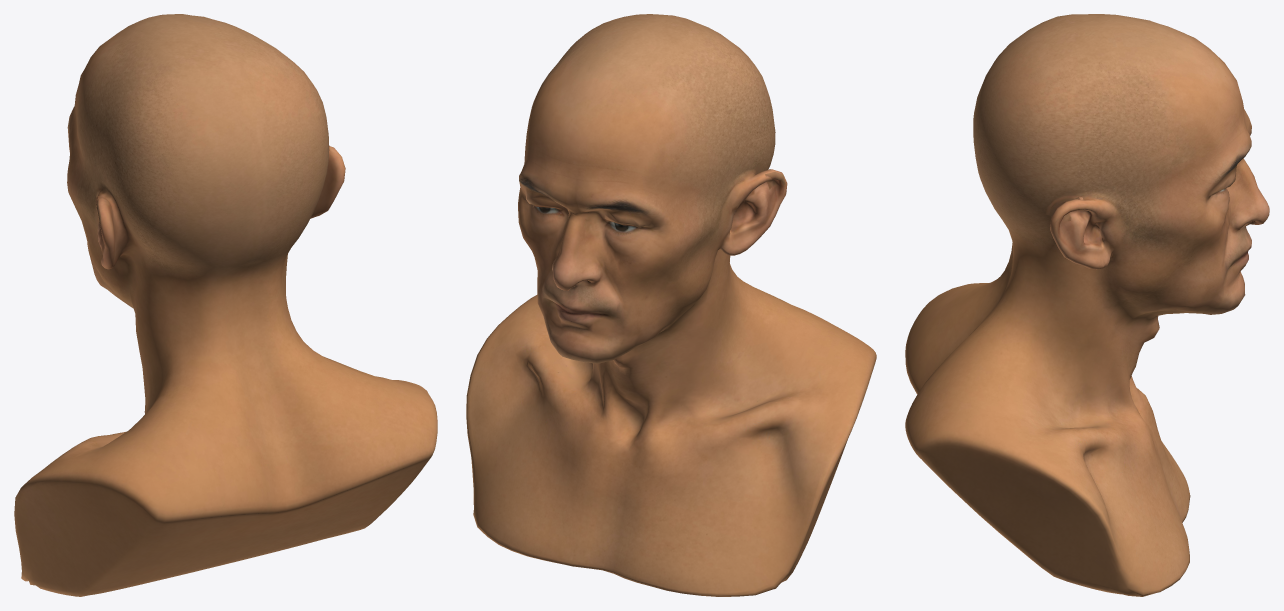
File: Model_HairHead_SoldierC.glb
3 renders of one model, left to right at view 1: azimuth 30°, elevation 25°; view 2: azimuth 150°, elevation 25°; view 3: azimuth 270°, elevation 25°, orthographic. The views are drawn at different scales.
Visible parts, largest first — view 1: HairHead_SoldierC; view 2: HairHead_SoldierC; view 3: HairHead_SoldierC.
Part boxes in pixels (x1,y1,x2,y2): HairHead_SoldierC: (14, 14, 437, 596); HairHead_SoldierC: (466, 14, 876, 596); HairHead_SoldierC: (905, 14, 1269, 596).
Size of the model in its own units: 0.3125 by 0.4186 by 0.2743.
Materials: 1 (1 with a texture image).
